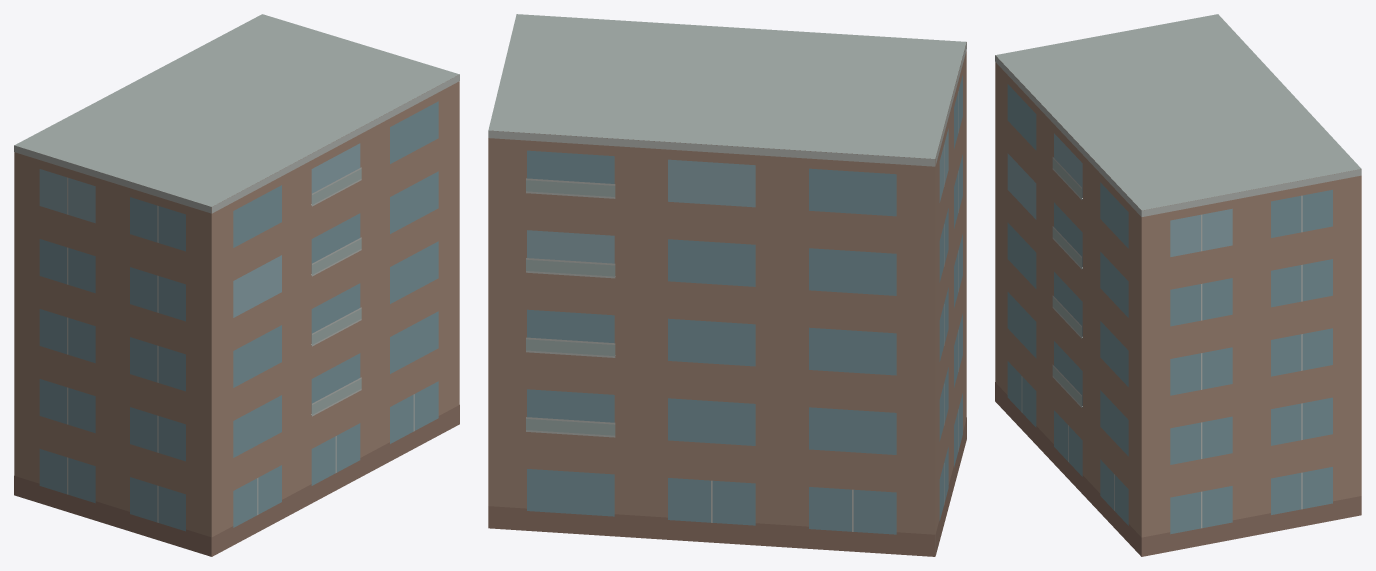
The model's file is survey-upis-32842530.glb.
3 renders of one model, left to right at view 1: azimuth 30°, elevation 25°; view 2: azimuth 150°, elevation 25°; view 3: azimuth 270°, elevation 25°, orthographic. The views are drawn at different scales.
Visible parts, largest first — view 1: survey-upis-32842530.tmp; view 2: survey-upis-32842530.tmp; view 3: survey-upis-32842530.tmp.
Part boxes in pixels (x1,y1,x2,y2): survey-upis-32842530.tmp: (14, 14, 459, 556); survey-upis-32842530.tmp: (488, 14, 966, 556); survey-upis-32842530.tmp: (995, 14, 1361, 556).
Size of the model in its own units: 15.47 by 12.7 by 12.19.
